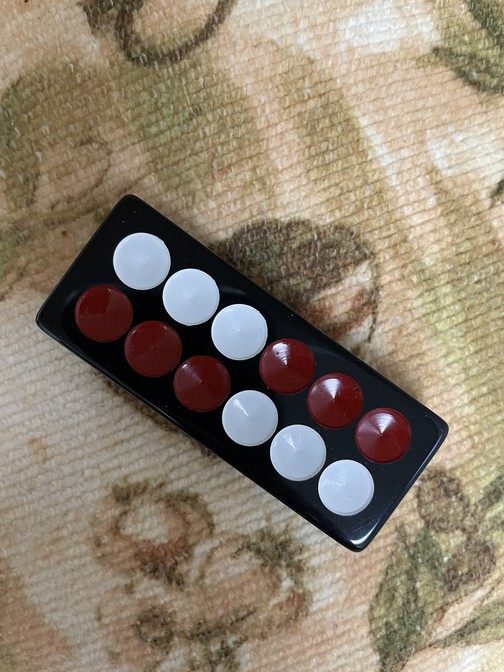heaven: (38, 194, 449, 552)
